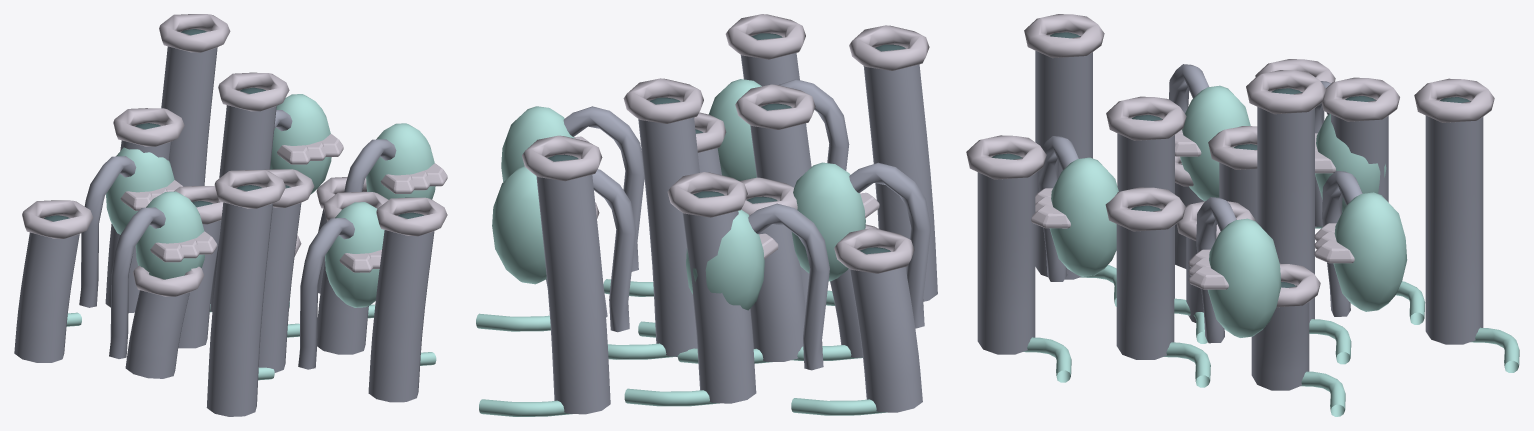
File: bio_thermal_colony_13_far.glb
The picture shows the model from 3 angles, left to right: view 1: azimuth 30°, elevation 25°; view 2: azimuth 150°, elevation 25°; view 3: azimuth 270°, elevation 25°; orthographic projection. The views are drawn at different scales.
Visible parts, largest first — view 1: Chimney biofilm.007, Chimney biofilm.010, Chimney biofilm.009, Chimney biofilm.011, Chimney biofilm.002, Chimney biofilm.004, Pendant spore capsule.002, Pendant spore capsule.004, Chimney biofilm.003, Arched fruit stem.004, Pendant spore capsule.003, Arched fruit stem.002 (+23 smaller); view 2: Chimney biofilm.011, Chimney biofilm.003, Chimney biofilm.007, Chimney biofilm.006, Chimney biofilm.009, Chimney biofilm.001, Pendant spore capsule.004, Pendant spore capsule.003, Arched fruit stem.001, Pendant spore capsule.001, Arched fruit stem.004, Arched fruit stem.003 (+24 smaller); view 3: Chimney biofilm.011, Chimney biofilm.010, Chimney biofilm.003, Chimney biofilm.005, Pendant spore capsule.003, Pendant spore capsule, Pendant spore capsule.002, Chimney biofilm.007, Chimney biofilm.008, Pendant spore capsule.004, Chimney biofilm.002, Open vent rim.010 (+30 smaller).
Boxes of the visible parts, box(x1,y1,x2,y2) form: Chimney biofilm.007: box(206, 202, 272, 416); Chimney biofilm.010: box(368, 230, 434, 402); Chimney biofilm.009: box(14, 232, 79, 362); Chimney biofilm.011: box(161, 46, 217, 186); Chimney biofilm.002: box(259, 203, 301, 372); Chimney biofilm.004: box(125, 290, 189, 378); Pendant spore capsule.002: box(325, 202, 384, 307); Pendant spore capsule.004: box(135, 191, 204, 279); Chimney biofilm.003: box(210, 105, 276, 311); Arched fruit stem.004: box(109, 207, 165, 358); Pendant spore capsule.003: box(270, 94, 331, 194); Arched fruit stem.002: box(298, 218, 354, 369); Chimney biofilm.011: box(536, 174, 610, 414); Chimney biofilm.003: box(638, 100, 699, 356); Chimney biofilm.007: box(863, 47, 937, 301); Chimney biofilm.006: box(682, 194, 756, 403); Chimney biofilm.009: box(850, 247, 922, 412); Chimney biofilm.001: box(746, 199, 805, 361); Pendant spore capsule.004: box(791, 162, 865, 281); Pendant spore capsule.003: box(492, 166, 546, 284); Arched fruit stem.001: box(748, 203, 829, 370); Pendant spore capsule.001: box(686, 209, 764, 310); Arched fruit stem.004: box(849, 162, 930, 328); Arched fruit stem.003: box(592, 169, 636, 332); Chimney biofilm.011: box(1425, 100, 1483, 344); Chimney biofilm.010: box(977, 157, 1035, 354); Chimney biofilm.003: box(1257, 92, 1314, 322); Chimney biofilm.005: box(1116, 209, 1174, 359); Pendant spore capsule.003: box(1333, 192, 1407, 311); Pendant spore capsule: box(1208, 218, 1281, 337); Pendant spore capsule.002: box(1049, 157, 1118, 276); Chimney biofilm.007: box(1035, 36, 1092, 279); Chimney biofilm.008: box(1251, 285, 1309, 390); Pendant spore capsule.004: box(1180, 85, 1250, 201); Chimney biofilm.002: box(1117, 119, 1174, 298); Open vent rim.010: box(966, 135, 1046, 179).
Size of the model in its own units: 1.76 by 0.9903 by 1.92.
